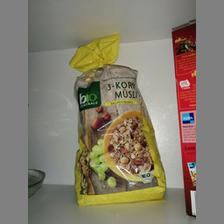Cerealien: (66, 33, 168, 204)
